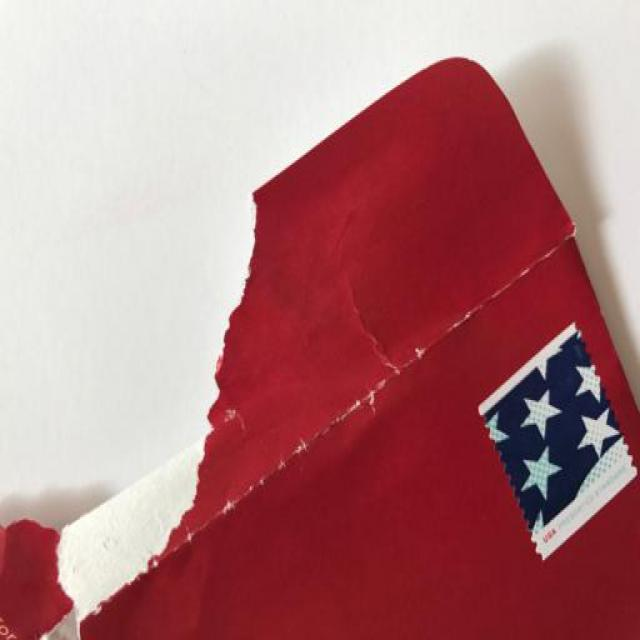paper: (1, 26, 640, 640)
